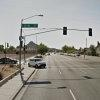Traffic light: (59, 21, 97, 42)
